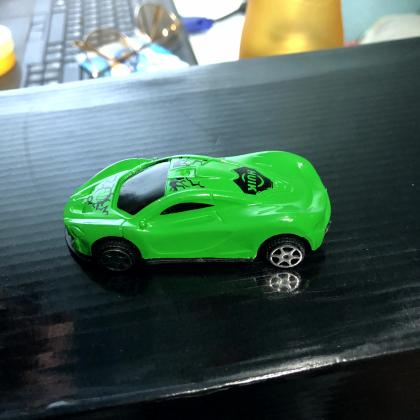Car: (62, 151, 332, 272)
